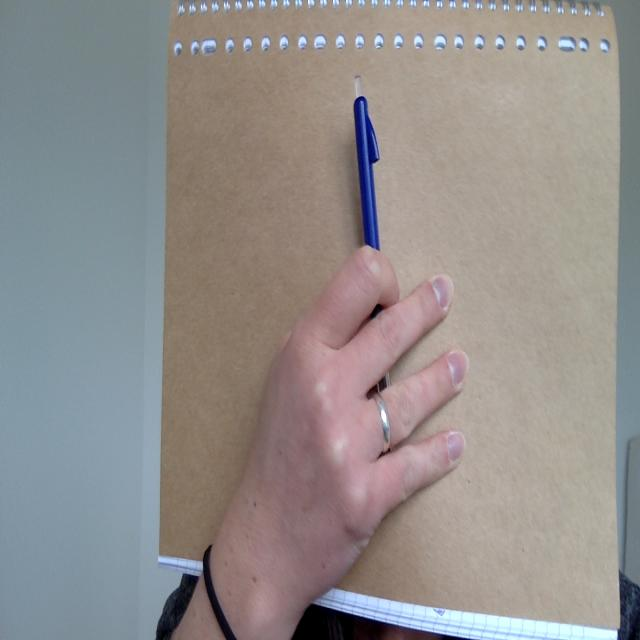pen: (349, 64, 390, 265)
